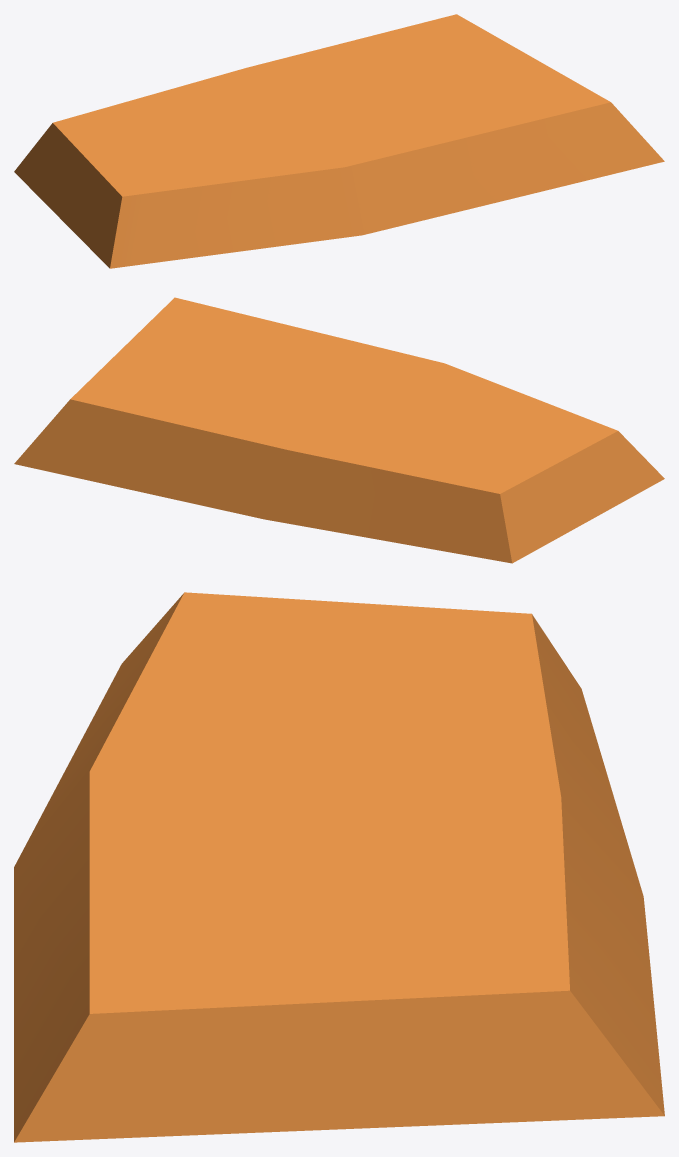
Rendered from stone_08.FBX.
3 renders of one model, top to bottom at view 1: azimuth 30°, elevation 25°; view 2: azimuth 150°, elevation 25°; view 3: azimuth 270°, elevation 25°, orthographic. The views are drawn at different scales.
Parts seen in each view (by area): view 1: stone_08; view 2: stone_08; view 3: stone_08.
Part boxes in pixels (x1,y1,x2,y2): stone_08: (14, 14, 664, 268); stone_08: (14, 297, 664, 563); stone_08: (14, 592, 664, 1142).
Bounding box in the file's own units: 0.6086 × 0.0582 × 0.3497.
Materials: 1 (1 with a texture image).
